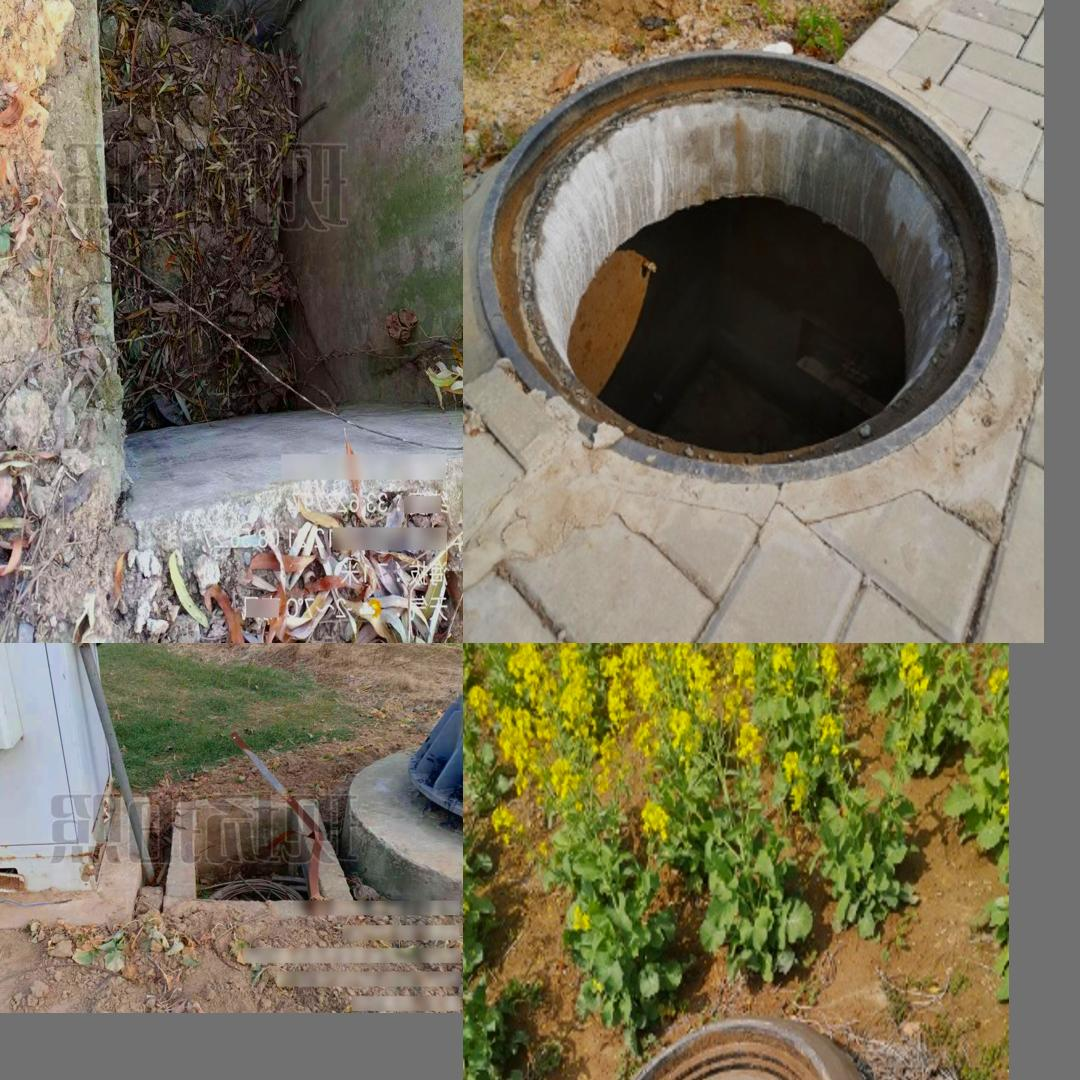lose: (33, 0, 455, 576), (473, 46, 1013, 480), (572, 1024, 902, 1080), (192, 798, 324, 901)
